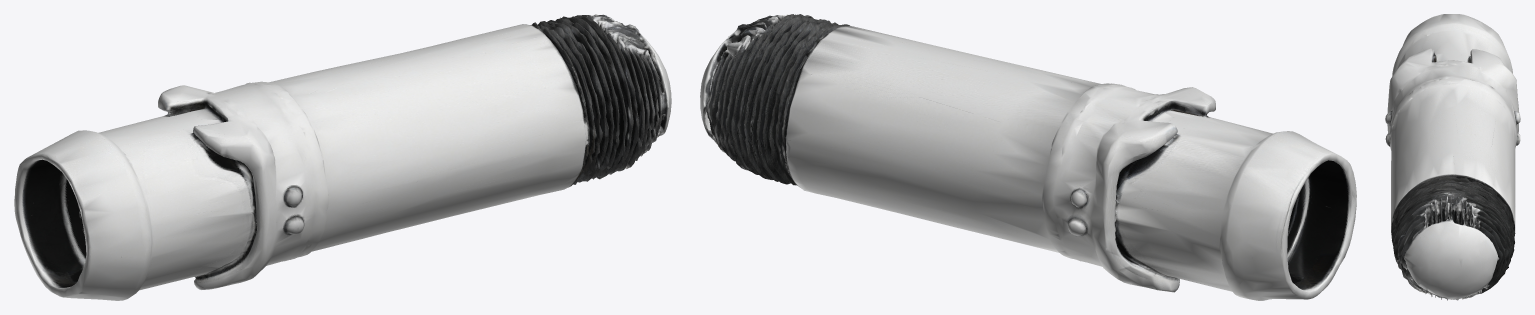
File: exhaust-system.glb
The picture shows the model from 3 angles, left to right: view 1: azimuth 30°, elevation 25°; view 2: azimuth 150°, elevation 25°; view 3: azimuth 270°, elevation 25°; orthographic projection. The views are drawn at different scales.
Bounding box in the file's own units: 2 × 0.5276 × 0.5515.
1 material, 1 textured.
